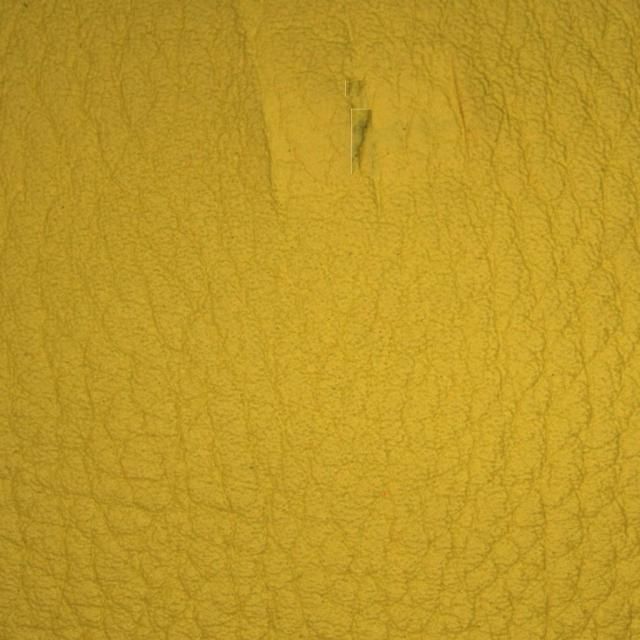Bacterial Injury: (238, 44, 490, 235)
